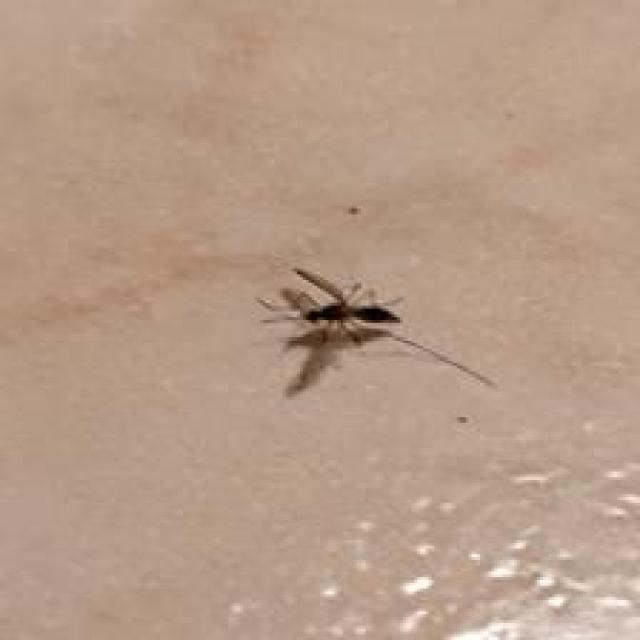Culex: (253, 264, 496, 399)
